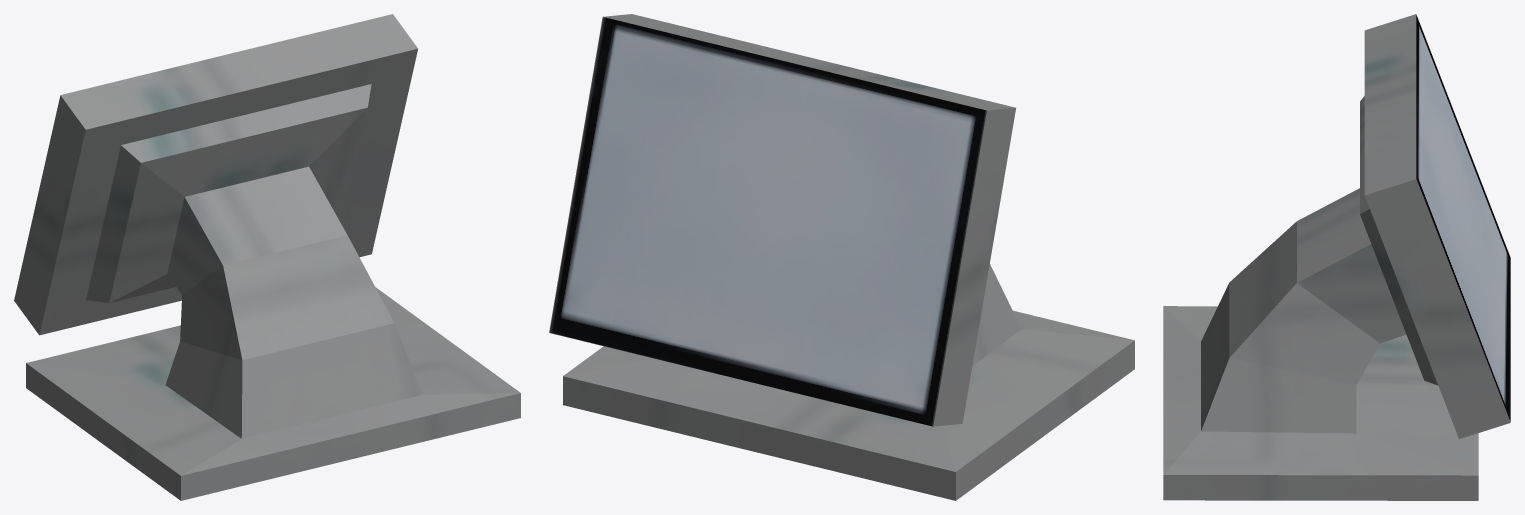
File: checkout_screen.glb
3 renders of one model, left to right at view 1: azimuth 30°, elevation 25°; view 2: azimuth 150°, elevation 25°; view 3: azimuth 270°, elevation 25°, orthographic. The views are drawn at different scales.
Parts seen in each view (by area): view 1: Cube.130; view 2: Cube.130; view 3: Cube.130.
Boxes of the visible parts, box(x1,y1,x2,y2) form: Cube.130: box(14, 14, 520, 500); Cube.130: box(549, 14, 1134, 500); Cube.130: box(1163, 14, 1510, 500).
Size of the model in its own units: 1.01 by 0.8945 by 0.8802.
Materials: 1 (1 with a texture image).
